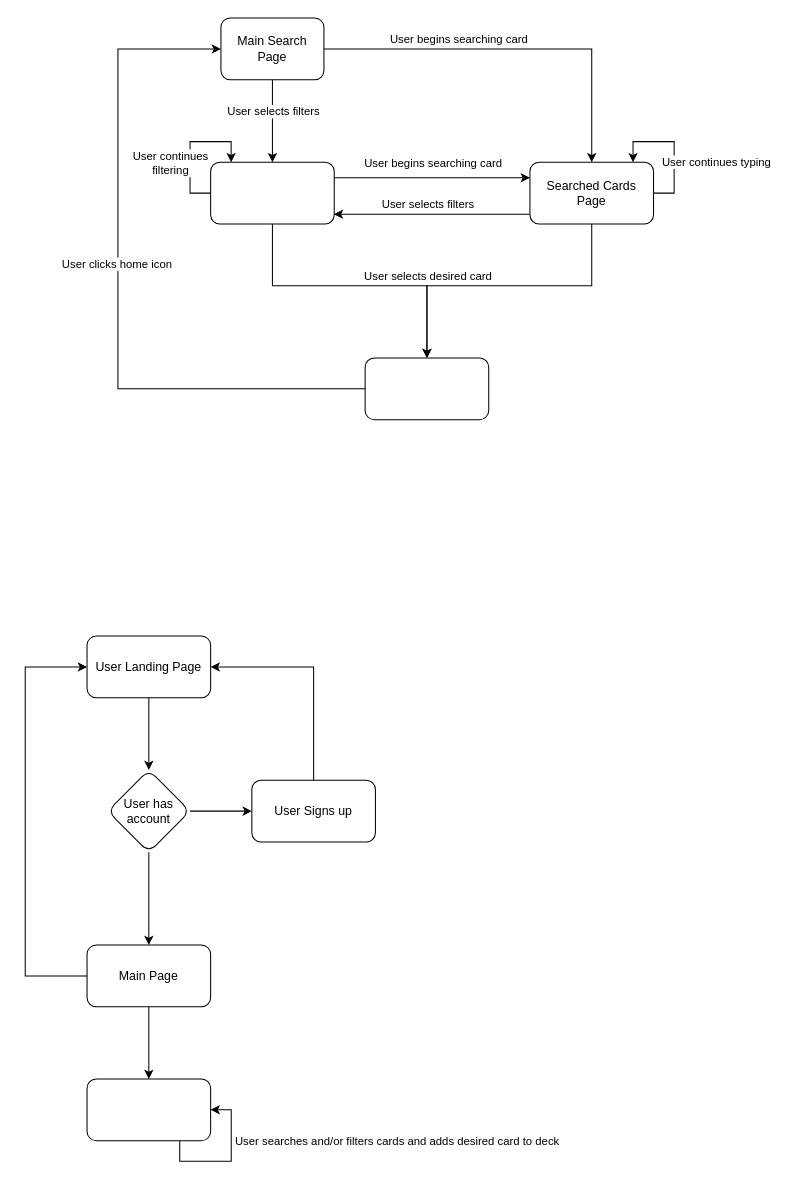
Image size: 788x1188. Some labels were removed from this diagram. Here are the shapes that lost their labels. From the top down, the box of each, then its label:
(210, 161, 334, 224): Filtered Cards Page
(364, 357, 489, 420): Card page
(86, 1078, 211, 1141): Build Deck Page
